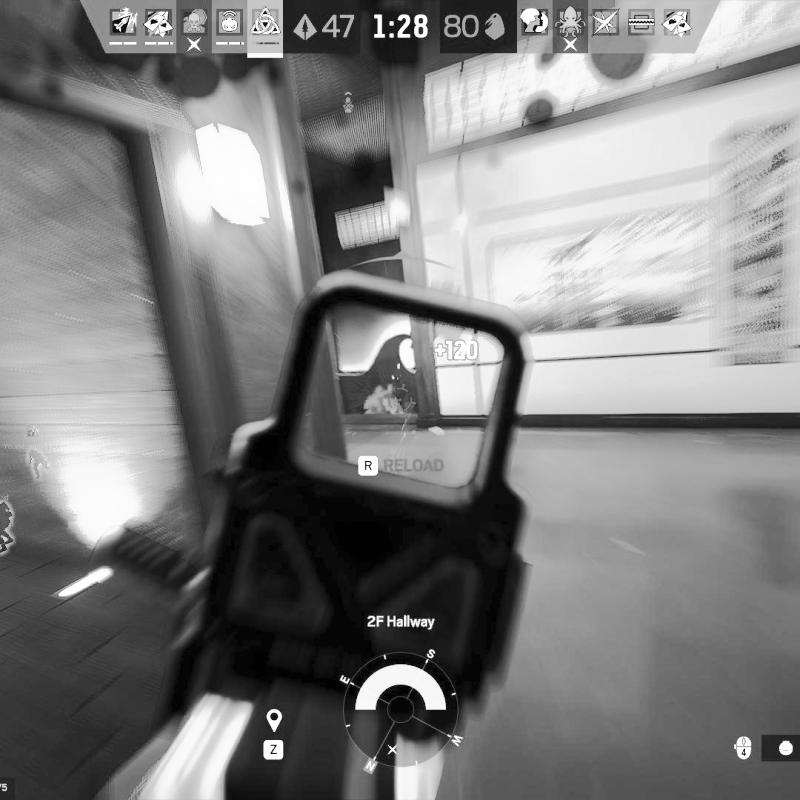Friend_label: (14, 423, 51, 451)
